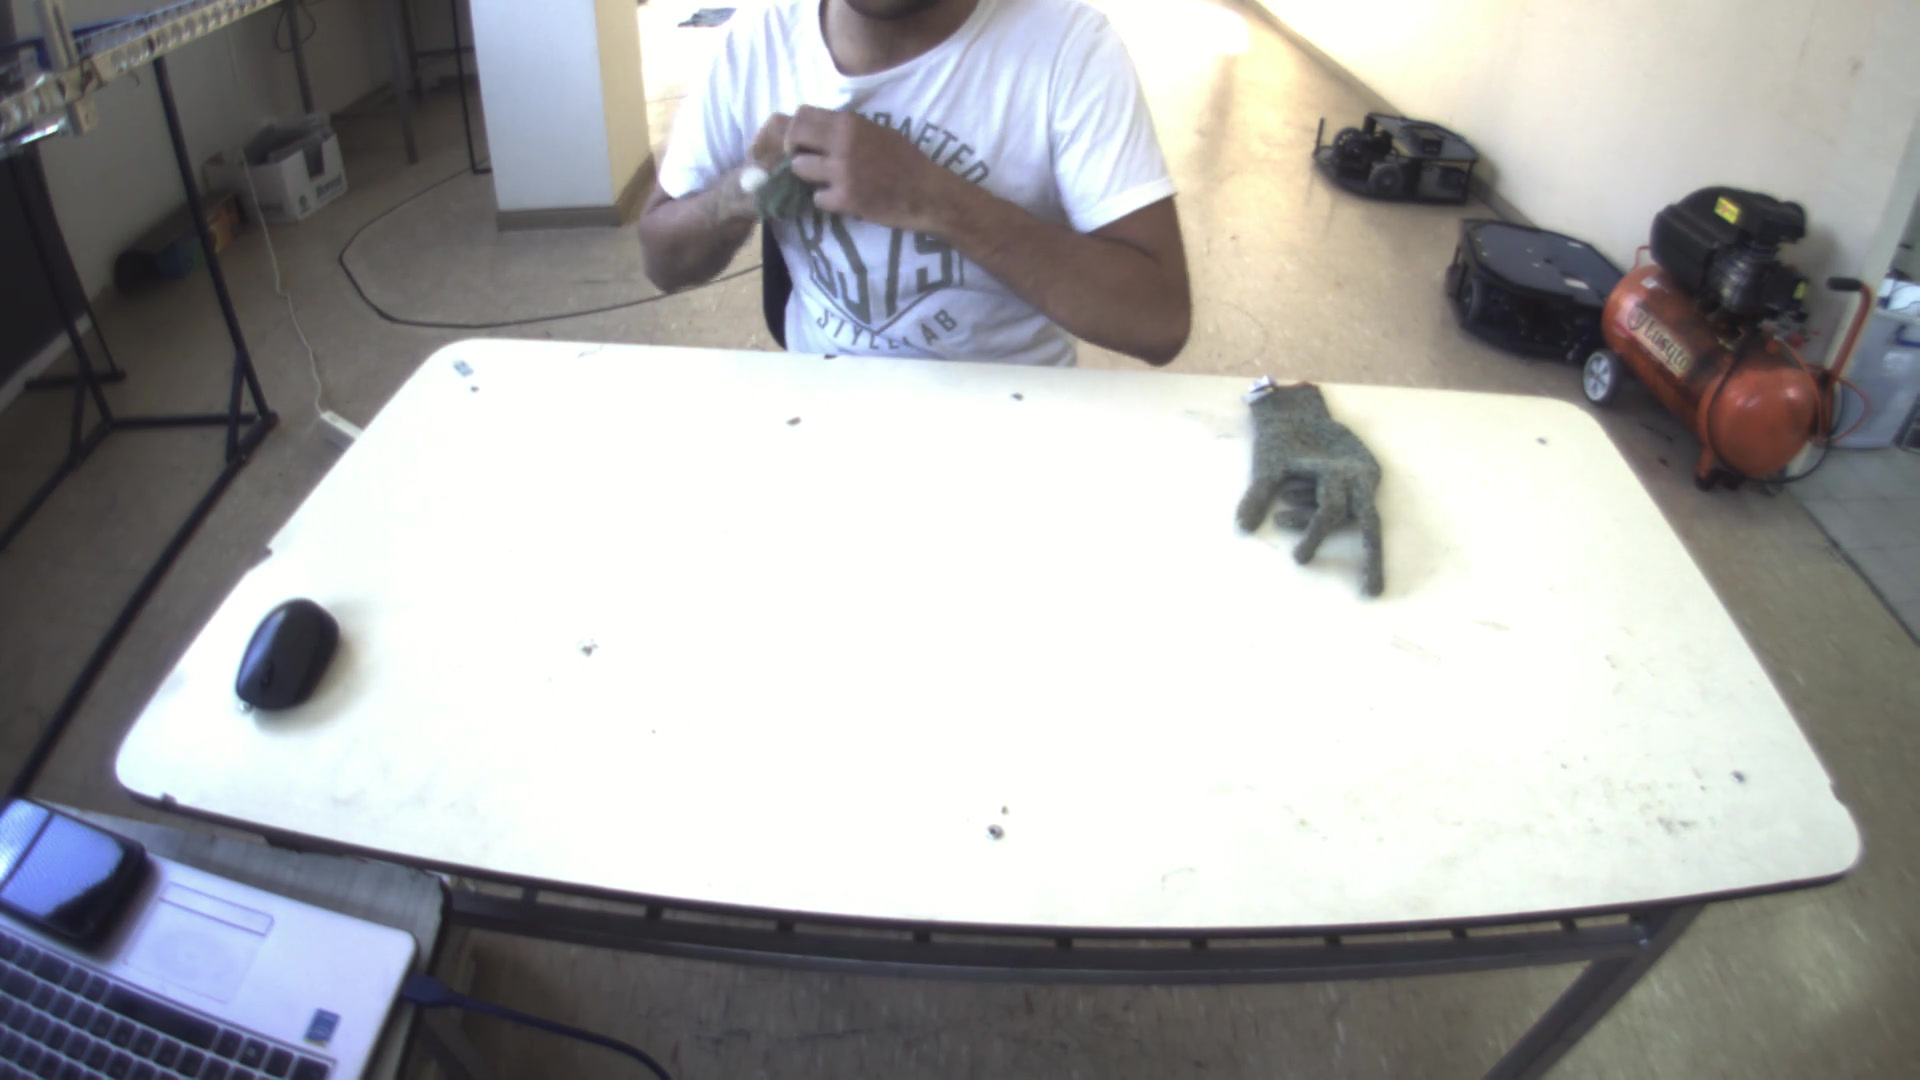hand: (774, 96, 957, 229)
